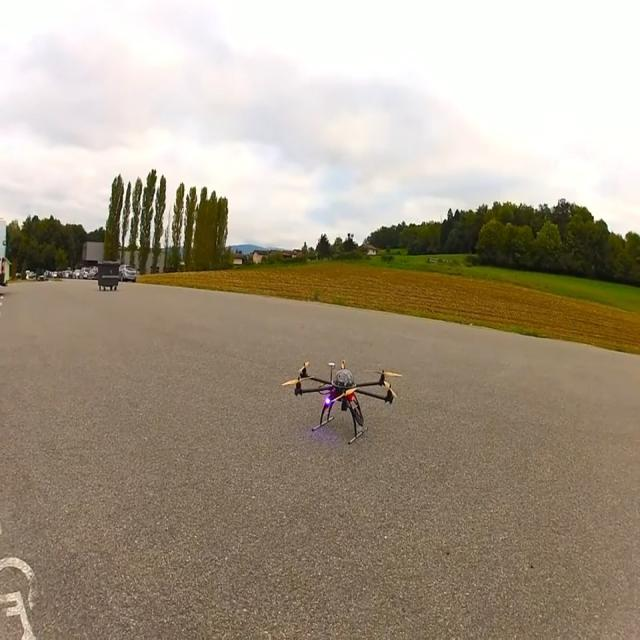drone: (281, 358, 402, 444)
